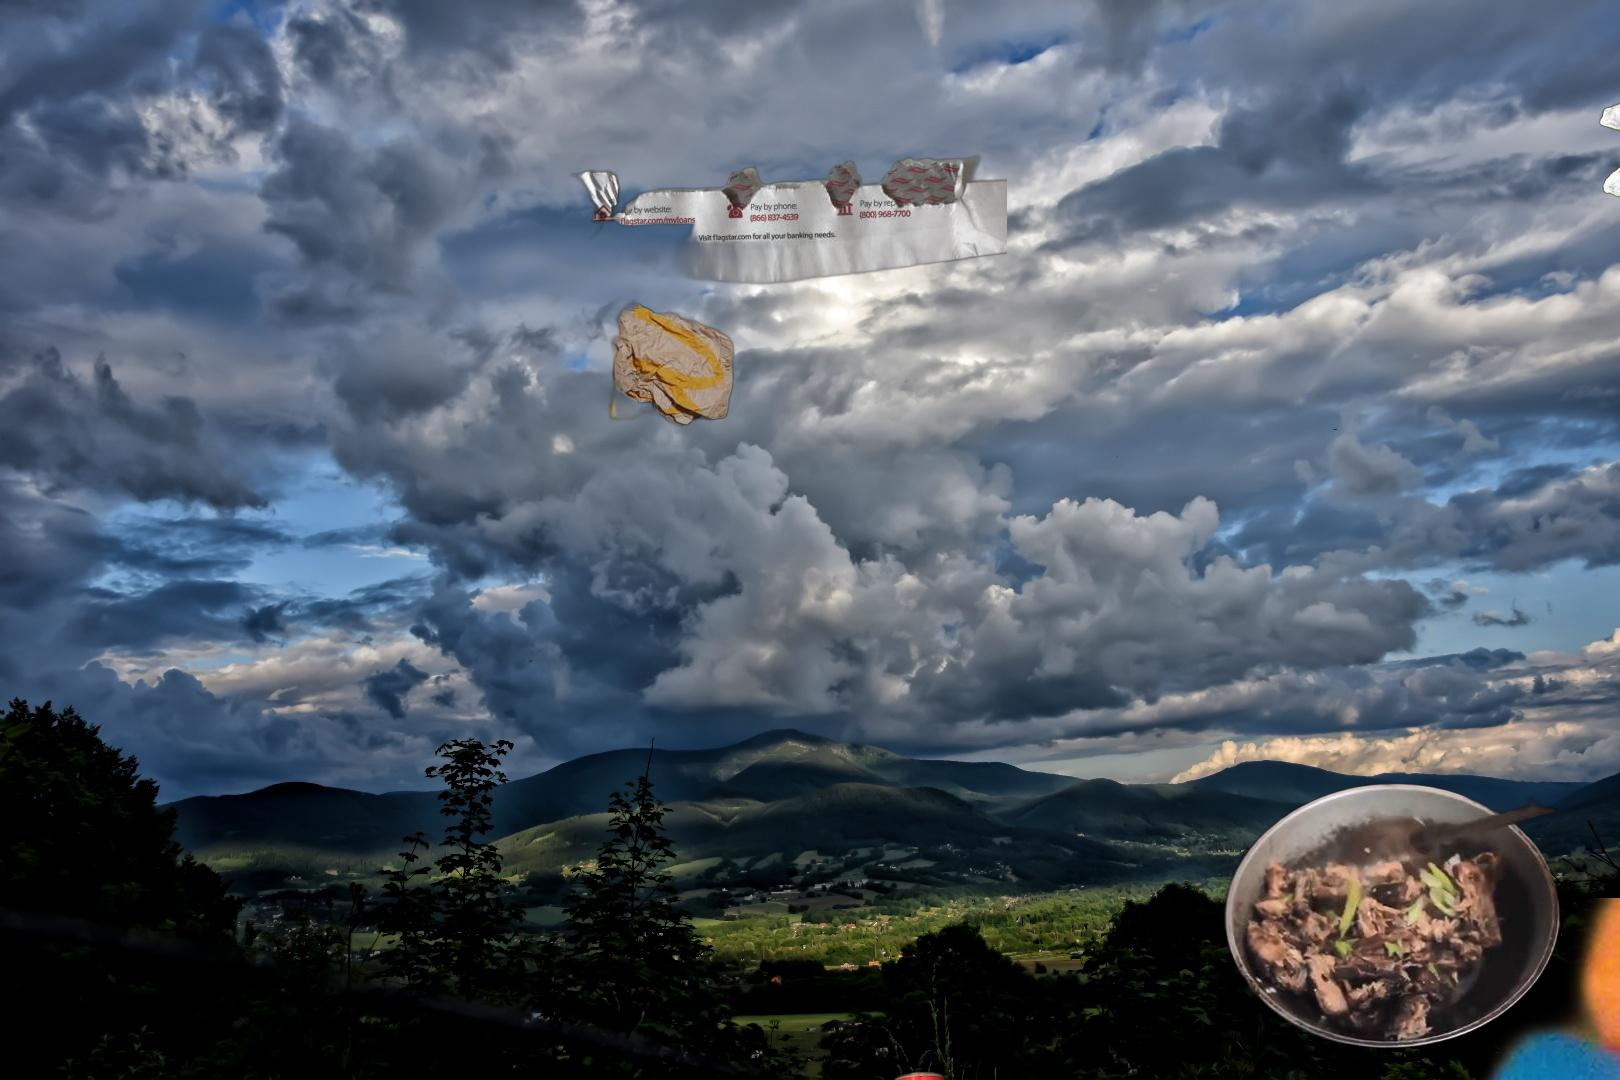biological: (1219, 780, 1571, 1051)
metal-cans: (888, 1066, 963, 1080)
paper: (495, 152, 1006, 287)
paper-bag: (600, 297, 788, 429)
penholder: (1108, 898, 1620, 1080)
plastic-bag: (1596, 75, 1620, 199)
